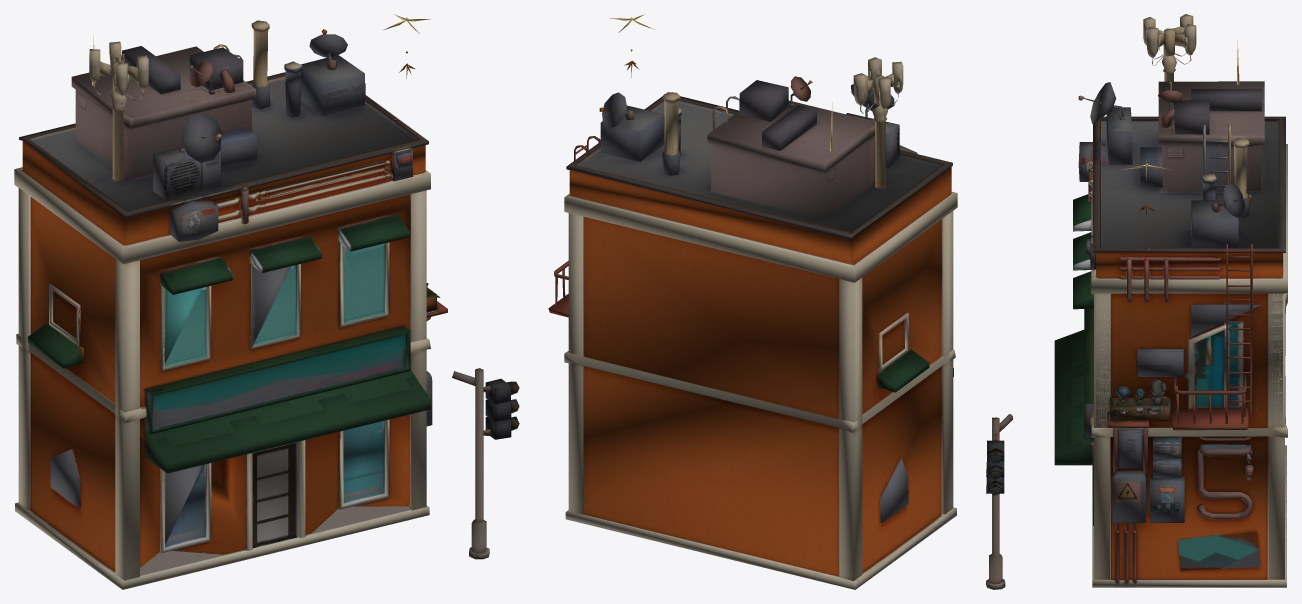
Rendered from tripo_convert_a2e7c2b7-fe44-495d-b063-3dee7f79e2d0.fbx.
3 views of the same model, side by side, from view 1: azimuth 30°, elevation 25°; view 2: azimuth 150°, elevation 25°; view 3: azimuth 270°, elevation 25° (orthographic). The views are drawn at different scales.
Parts seen in each view (by area): view 1: tripo_node_a2e7c2b7; view 2: tripo_node_a2e7c2b7; view 3: tripo_node_a2e7c2b7.
Part boxes in pixels (box(x1,y1,x2,y2)): tripo_node_a2e7c2b7: box(14, 14, 519, 589); tripo_node_a2e7c2b7: box(548, 14, 957, 589); tripo_node_a2e7c2b7: box(986, 14, 1287, 589).
Size of the model in its own units: 76.37 by 61.13 by 99.8.
Materials: 1 (1 with a texture image).
